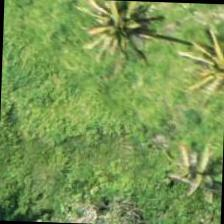Kelapa_Sawit: (162, 133, 224, 223), (78, 0, 171, 60)
